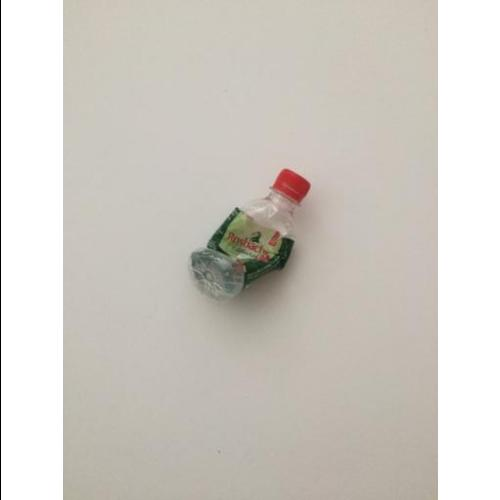plastic: (190, 166, 312, 303)
